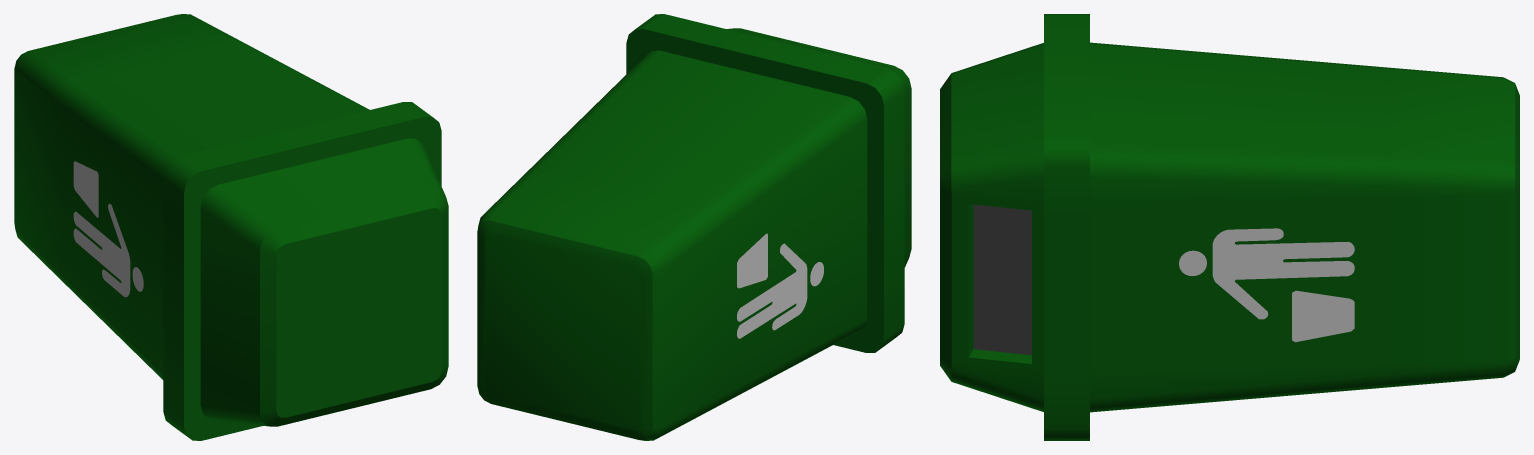
Rendered from can_garbage.glb.
The picture shows the model from 3 angles, left to right: view 1: azimuth 30°, elevation 25°; view 2: azimuth 150°, elevation 25°; view 3: azimuth 270°, elevation 25°; orthographic projection. The views are drawn at different scales.
Parts seen in each view (by area): view 1: can_garbage; view 2: can_garbage; view 3: can_garbage.
Part boxes in pixels (x1,y1,x2,y2): can_garbage: (14, 14, 448, 440); can_garbage: (477, 14, 911, 440); can_garbage: (940, 14, 1519, 440).
Bounding box in the file's own units: 0.6003 × 0.6003 × 1.05.
